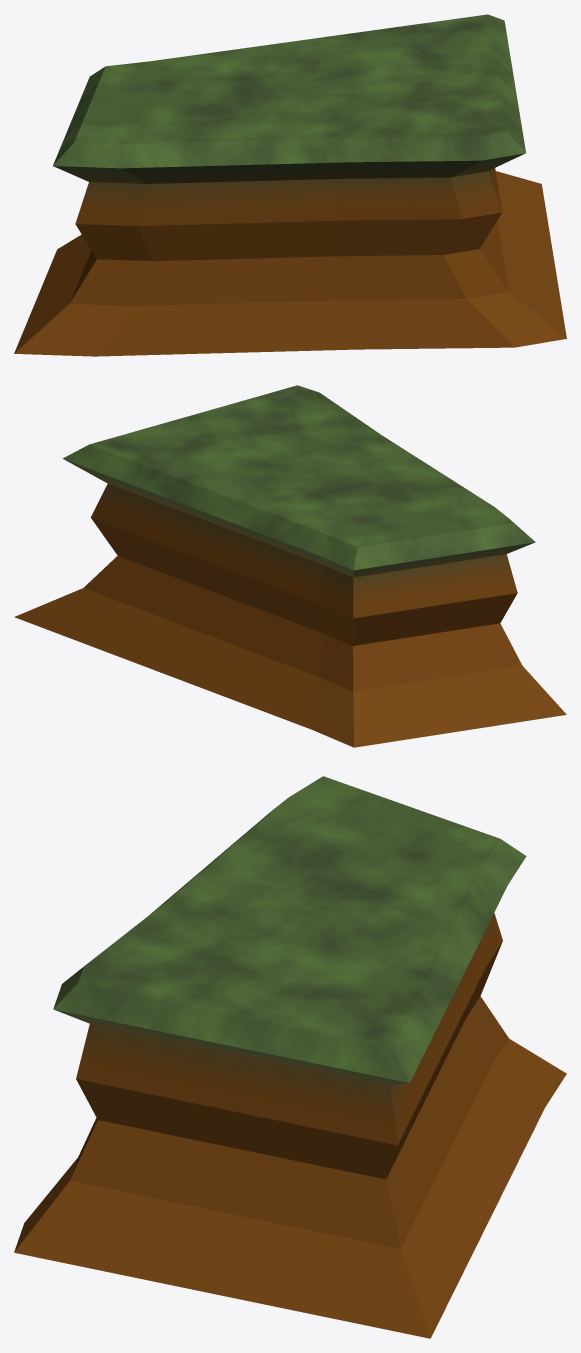
File: T4_Terreno_Lvl1_T.fbx
3 renders of one model, top to bottom at view 1: azimuth 30°, elevation 25°; view 2: azimuth 150°, elevation 25°; view 3: azimuth 270°, elevation 25°, orthographic. The views are drawn at different scales.
Parts seen in each view (by area): view 1: T4_modelosBlockout_nivel1; view 2: T4_modelosBlockout_nivel1; view 3: T4_modelosBlockout_nivel1.
Part boxes in pixels (x1=…): T4_modelosBlockout_nivel1: x1=14, y1=14, x2=566, y2=356; T4_modelosBlockout_nivel1: x1=14, y1=385, x2=566, y2=747; T4_modelosBlockout_nivel1: x1=14, y1=776, x2=566, y2=1338.
Size of the model in its own units: 4268 by 1410 by 2842.
